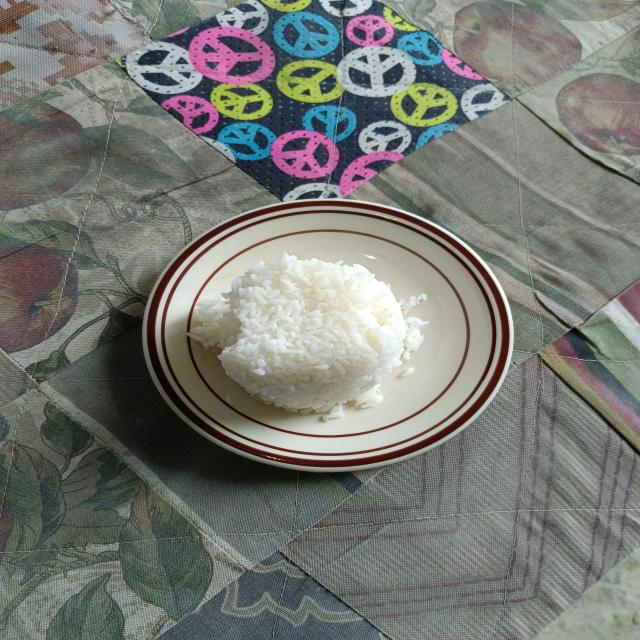Chicken -Chicken Inasal-: (198, 258, 418, 408)
